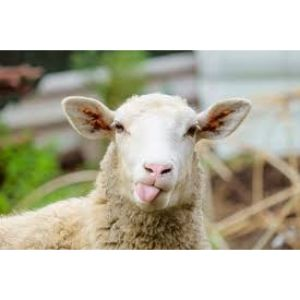sheep: (4, 87, 254, 246)
